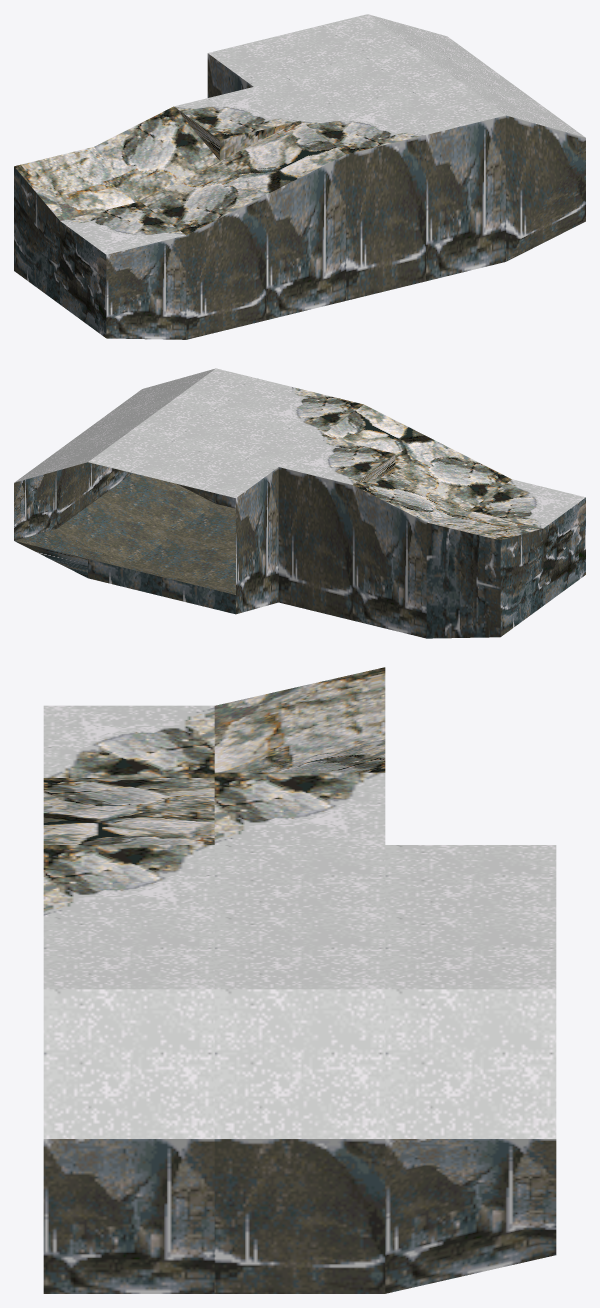
The model's file is room31.obj.
3 renders of one model, top to bottom at view 1: azimuth 30°, elevation 25°; view 2: azimuth 150°, elevation 25°; view 3: azimuth 270°, elevation 25°, orthographic. The views are drawn at different scales.
Visible parts, largest first — view 1: 01-Caves.031; view 2: 01-Caves.031; view 3: 01-Caves.031.
Part boxes in pixels (x1,y1,x2,y2): 01-Caves.031: (14,14,585,339); 01-Caves.031: (14,368,585,638); 01-Caves.031: (43,667,556,1293).
Size of the model in its own units: 60 by 17.5 by 30.
1 material, 1 textured.
